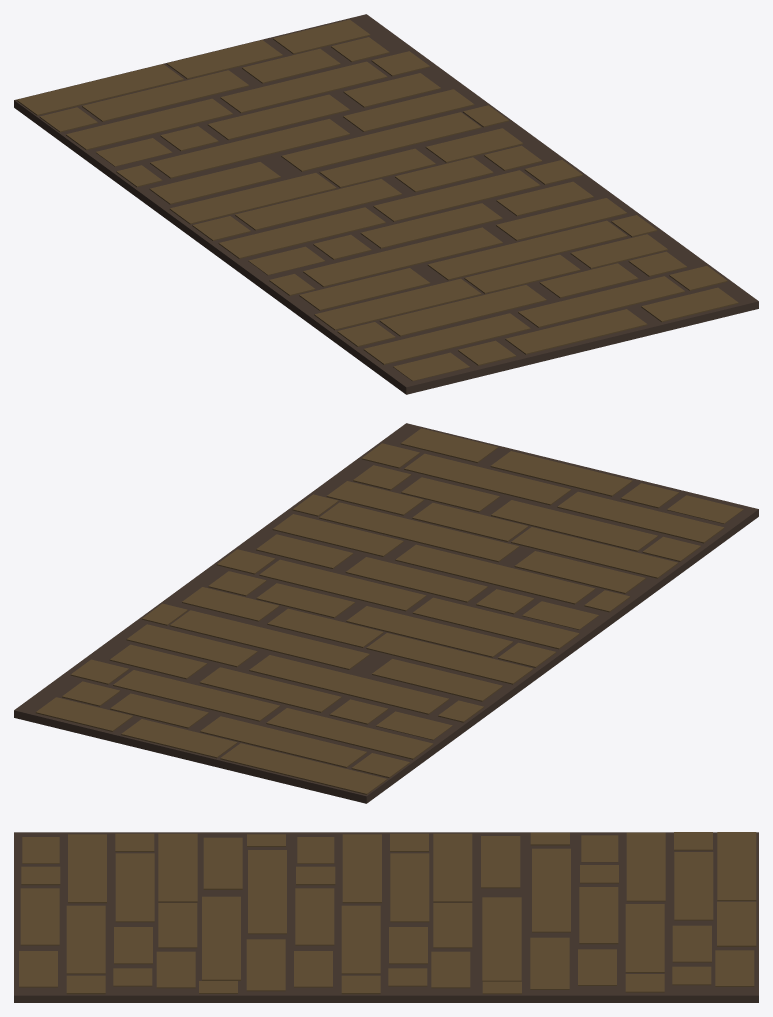
File: Floor_type_01.fbx
3 renders of one model, top to bottom at view 1: azimuth 30°, elevation 25°; view 2: azimuth 150°, elevation 25°; view 3: azimuth 270°, elevation 25°, orthographic. The views are drawn at different scales.
Parts seen in each view (by area): view 1: Cube; view 2: Cube; view 3: Cube.
Boxes of the visible parts, x1,y1,x2,y2 form: Cube: [14, 14, 758, 394]; Cube: [14, 423, 758, 803]; Cube: [14, 832, 758, 1002].
Bounding box in the file's own units: 444 × 10.33 × 855.
